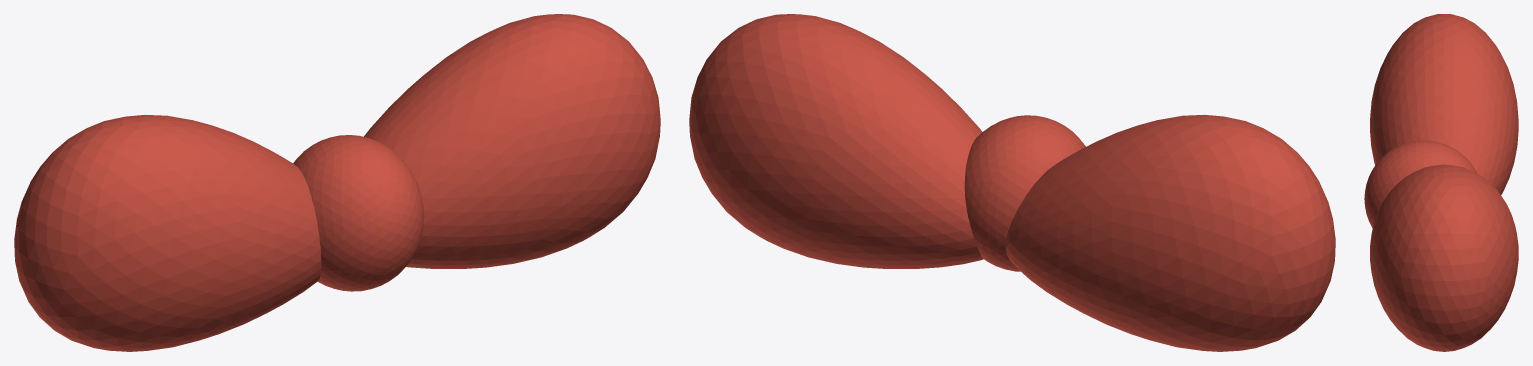
The model's file is bow.glb.
3 renders of one model, left to right at view 1: azimuth 30°, elevation 25°; view 2: azimuth 150°, elevation 25°; view 3: azimuth 270°, elevation 25°, orthographic. The views are drawn at different scales.
Parts seen in each view (by area): view 1: geometry_0; view 2: geometry_0; view 3: geometry_0.
Boxes of the visible parts, left/top/right/bottom form: geometry_0: left=14, top=14, right=660, bottom=351; geometry_0: left=689, top=14, right=1335, bottom=351; geometry_0: left=1364, top=14, right=1518, bottom=351.
Bounding box in the file's own units: 0.9482 × 0.3231 × 0.2666.
